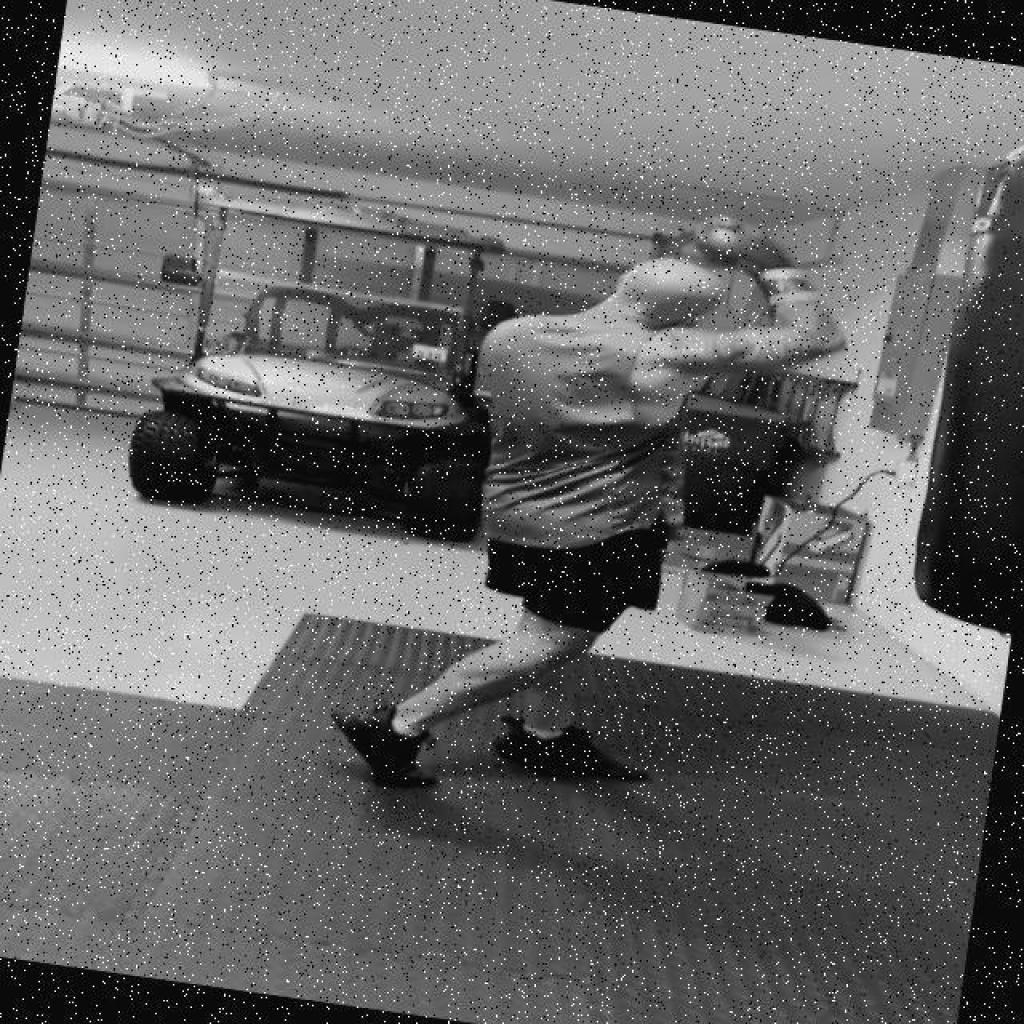bag: (905, 126, 1024, 647)
uppercut: (443, 168, 869, 493)
